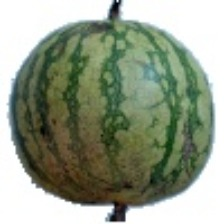watermelon: (40, 29, 179, 186)
